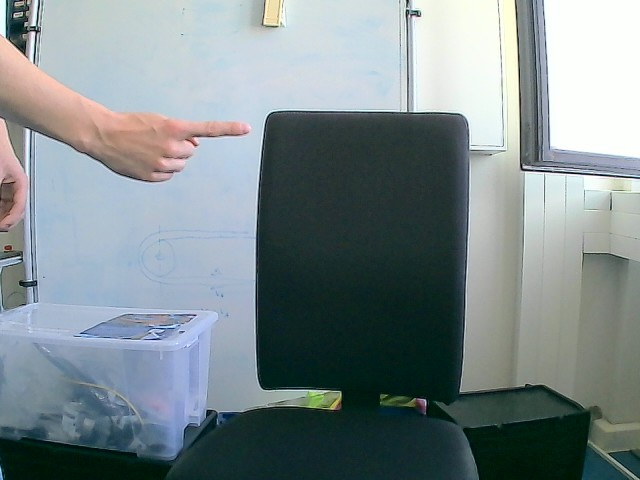left: (91, 108, 252, 184)
